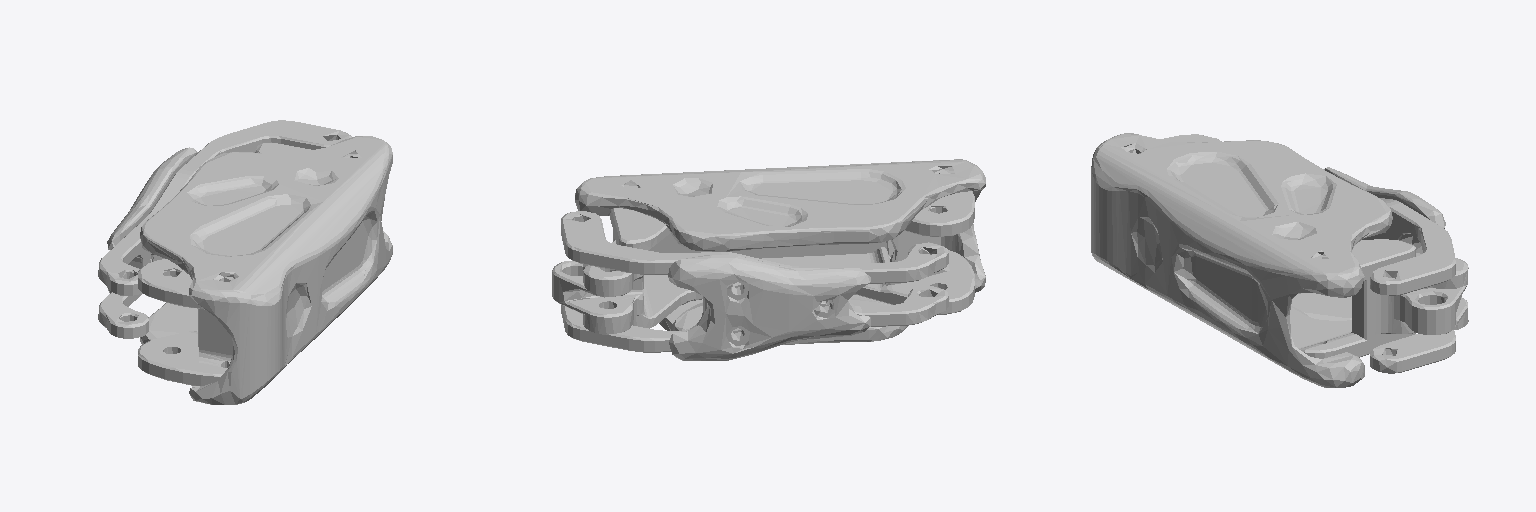
File: R_thumb_proximal.obj
3 renders of one model, left to right at view 1: azimuth 30°, elevation 25°; view 2: azimuth 150°, elevation 25°; view 3: azimuth 270°, elevation 25°, orthographic.
Visible parts, largest first — view 1: R_thumb_proximal; view 2: R_thumb_proximal; view 3: R_thumb_proximal.
Boxes of the visible parts, x1,y1,x2,y2 form: R_thumb_proximal: [98, 120, 392, 404]; R_thumb_proximal: [552, 159, 985, 360]; R_thumb_proximal: [1091, 133, 1468, 387].
Bounding box in the file's own units: 0.0588 × 0.02 × 0.0594.